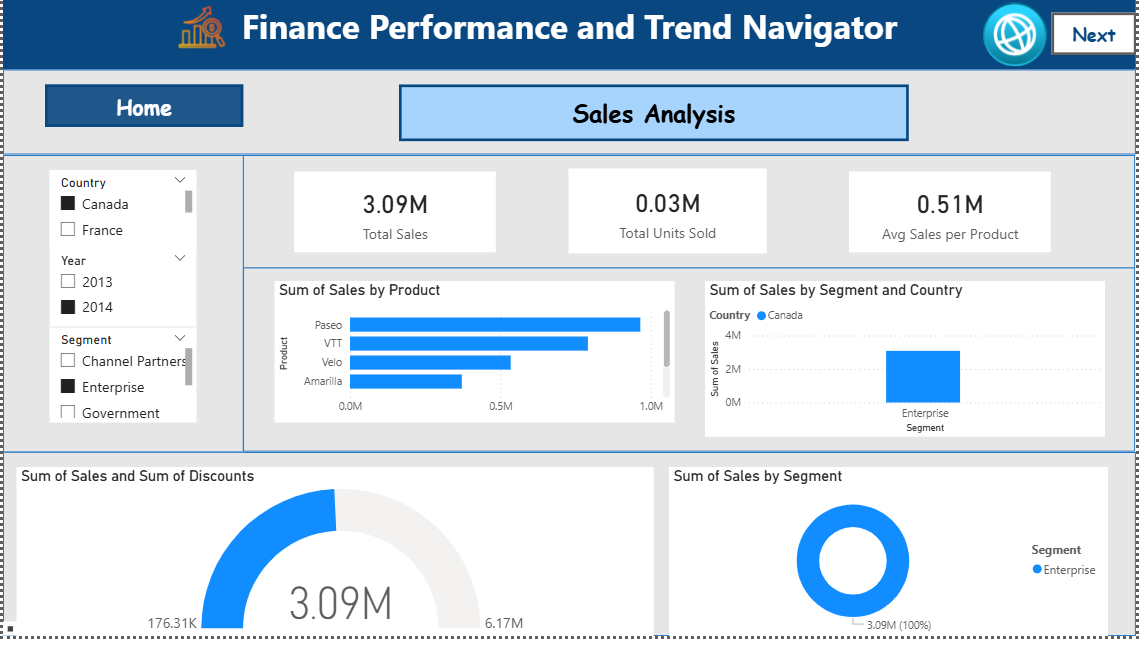

The dashboard page shown, as its layout file describes it:
{"tool":"powerbi","page":{"name":"Page1","canvas":[1280,720],"ordinal":10},"visuals":[{"type":"textbox","box":[0,0,1280,80],"z":0},{"type":"shape","box":[272,176,1008,128],"z":0,"group":"g5"},{"type":"slicer","fields":{"Values":["financials.Country"]},"box":[52.9,193.8,166.2,88.9],"z":0,"group":"g2"},{"type":"shape","box":[272,304,1008,208],"z":0,"group":"g3"},{"type":"card","fields":{"Values":["financials.Total Sales"]},"box":[329.1,194.3,228.2,91.4],"z":1000,"group":"g5"},{"type":"slicer","fields":{"Values":["financials.Date.Variation.Date Hierarchy.Year"]},"box":[52.9,282.7,166.2,88.9],"z":1000,"group":"g2"},{"type":"clusteredBarChart","fields":{"Y":["Sum(financials.Sales)"],"Category":["financials.Product"]},"box":[306.8,320,451.9,160],"z":1000,"group":"g3"},{"type":"shape","box":[0,512,1280,208],"z":1000},{"type":"actionButton","box":[193.3,0,236.7,63.3],"z":2000},{"type":"columnChart","fields":{"Category":["financials.Segment"],"Series":["financials.Country"],"Y":["Sum(financials.Sales)"]},"box":[793.4,320,451.9,176],"z":2000,"group":"g3"},{"type":"slicer","fields":{"Values":["financials.Segment"]},"box":[52.9,371.6,166.2,106.7],"z":2000,"group":"g2"},{"type":"card","fields":{"Values":["financials.Total Units Sold"]},"box":[640,192,224,96],"z":3000,"group":"g5"},{"type":"gauge","fields":{"Y":["Sum(financials.Sales)"],"MinValue":["Sum(financials.Discounts)"]},"box":[16,528,720,192],"z":3000},{"type":"actionButton","box":[1104,0,80,80],"z":4000},{"type":"card","fields":{"Values":["financials.Avg Sales per Product"]},"box":[956.7,194.3,228.2,91.4],"z":4000,"group":"g5"},{"type":"group","id":"g1","title":"Group 1","box":[272,176,1008,128],"z":5000},{"type":"shape","box":[0,176,272,336],"z":6000},{"type":"group","id":"g2","title":"Group 4","box":[52.9,193.8,166.2,284.4],"z":7000},{"type":"group","id":"g3","title":"Group 3","box":[272,304,1008,208],"z":8000},{"type":"group","id":"g4","title":"Group 7","box":[0,80,1280,96],"z":9000},{"type":"actionButton","box":[448,96,576,64],"z":10000},{"type":"actionButton","box":[48,96,224,48],"z":11000},{"type":"textbox","box":[0,704,16,16],"z":12000},{"type":"shape","box":[0,80,1280,96],"z":12002,"group":"g4"},{"type":"actionButton","box":[1184,16,96,48],"z":13000},{"type":"donutChart","fields":{"Y":["Sum(financials.Sales)"],"Category":["financials.Segment"]},"box":[752,528,496,192],"z":14000},{"type":"group","id":"g5","title":"Group 2","box":[272,176,1008,128],"z":18007,"group":"g1"}]}

Visuals, with their boxes in screenshot pixels (x1, y1, x2, y2), scaled from the page's 1280x720 canvas onto the 1141x645 screenshot:
textbox: box(0, 0, 1140, 72)
shape: box(242, 158, 1140, 272)
slicer - financials.Country: box(47, 174, 195, 253)
shape: box(242, 272, 1140, 459)
card - financials.Total Sales: box(293, 174, 497, 256)
slicer - financials.Date.Variation.Date Hierarchy.Year: box(47, 253, 195, 333)
clusteredBarChart - Sum(financials.Sales) x financials.Product: box(273, 287, 676, 430)
shape: box(0, 459, 1140, 644)
actionButton: box(172, 0, 383, 57)
columnChart - financials.Segment x financials.Country: box(707, 287, 1110, 444)
slicer - financials.Segment: box(47, 333, 195, 428)
card - financials.Total Units Sold: box(570, 172, 770, 258)
gauge - Sum(financials.Sales) x Sum(financials.Discounts): box(14, 473, 656, 644)
actionButton: box(984, 0, 1055, 72)
card - financials.Avg Sales per Product: box(853, 174, 1056, 256)
"Group 1" group: box(242, 158, 1140, 272)
shape: box(0, 158, 242, 459)
"Group 4" group: box(47, 174, 195, 428)
"Group 3" group: box(242, 272, 1140, 459)
"Group 7" group: box(0, 72, 1140, 158)
actionButton: box(399, 86, 913, 143)
actionButton: box(43, 86, 242, 129)
textbox: box(0, 631, 14, 644)
shape: box(0, 72, 1140, 158)
actionButton: box(1055, 14, 1140, 57)
donutChart - Sum(financials.Sales) x financials.Segment: box(670, 473, 1112, 644)
"Group 2" group: box(242, 158, 1140, 272)
